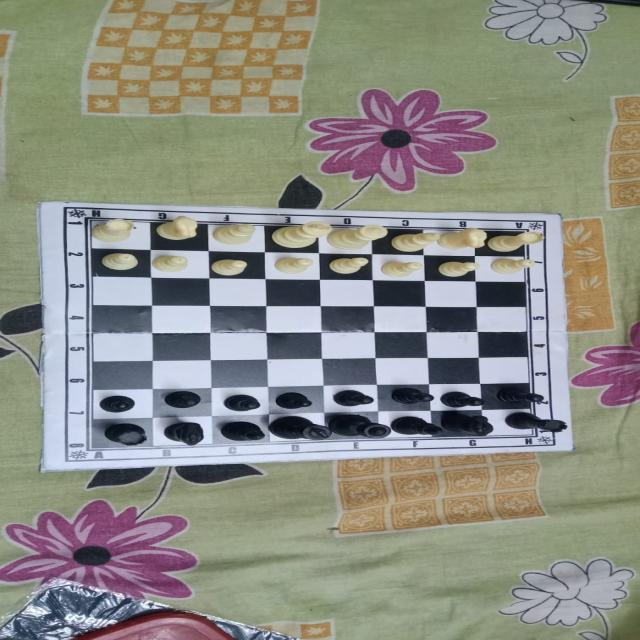corners: (28, 196, 72, 214), (534, 212, 571, 229), (546, 440, 580, 458), (29, 461, 66, 476)
